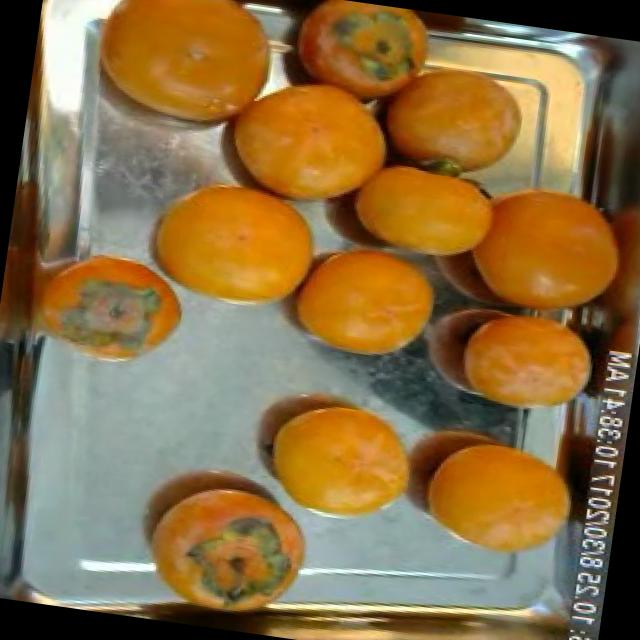Fruit: (116, 159, 346, 335), (226, 358, 438, 546), (116, 440, 328, 621), (59, 0, 305, 153), (261, 224, 463, 388), (400, 415, 596, 578), (8, 230, 199, 388), (435, 302, 613, 434)
